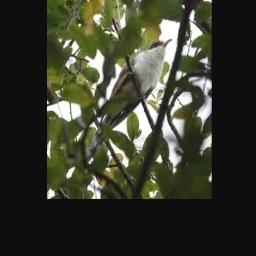Cuckoo: (84, 38, 172, 161)
